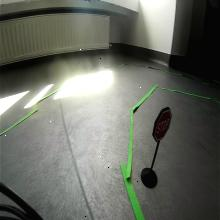stop: (151, 106, 173, 142)
